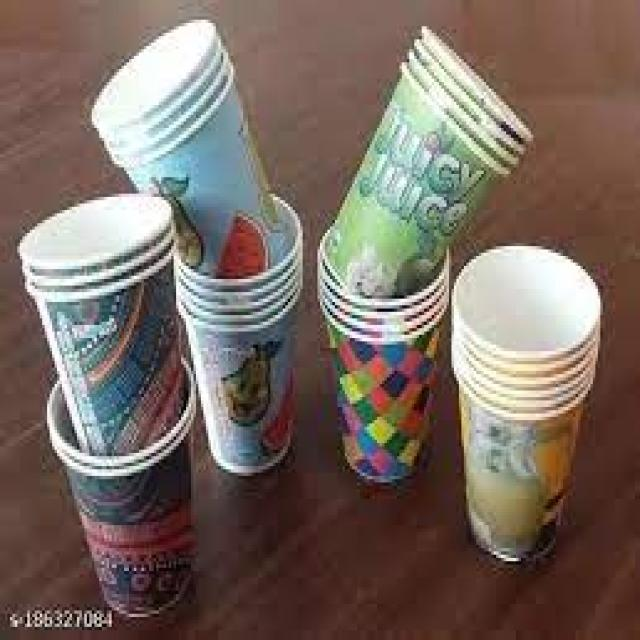PaperCardboard: (89, 12, 292, 286), (328, 24, 528, 299), (451, 245, 598, 562), (18, 191, 186, 462), (39, 362, 198, 623), (176, 212, 308, 471), (318, 244, 453, 482)
